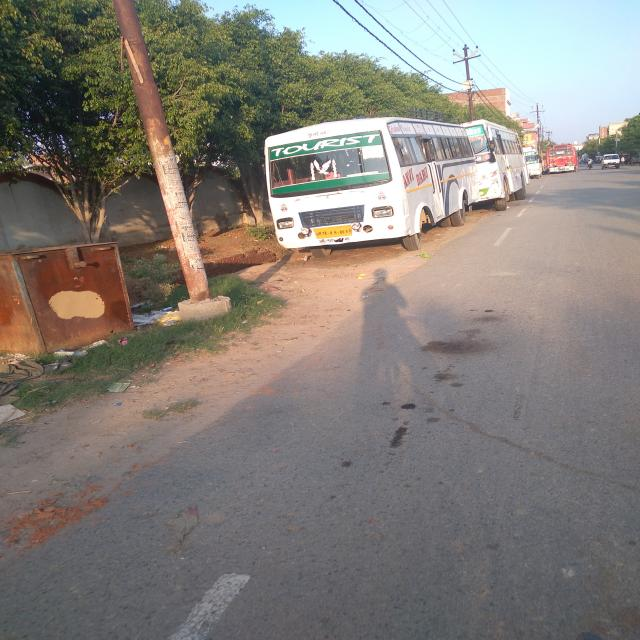Bus: (240, 114, 482, 260)
